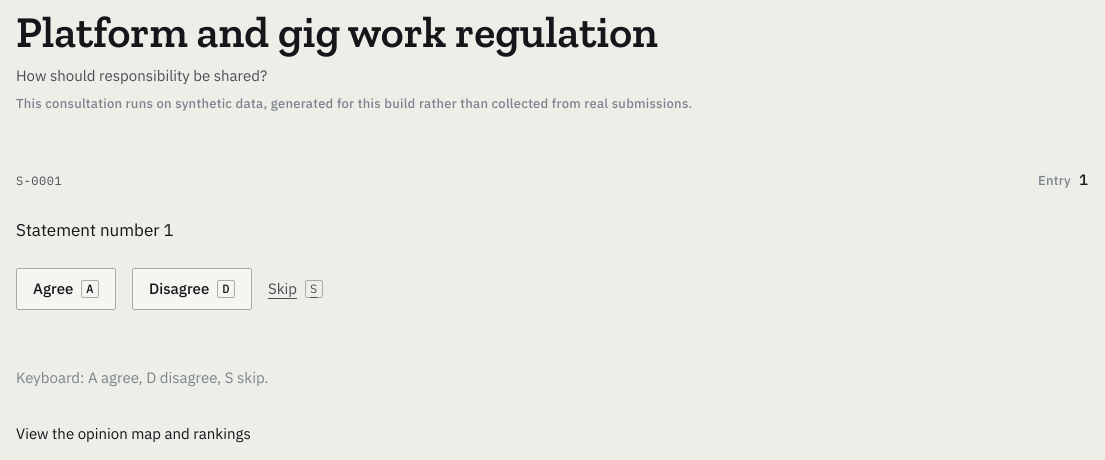
it: VotingScreen › casts an agree vote by clicking and advances to the next statement
This screenshot has width=1105, height=460.
Check: the text "Statement number 1" is shown, box top-left (16, 219), bottom-right (174, 241)
Click the button "Agree A".
click(66, 289)  # box top-left (16, 268), bottom-right (116, 310)
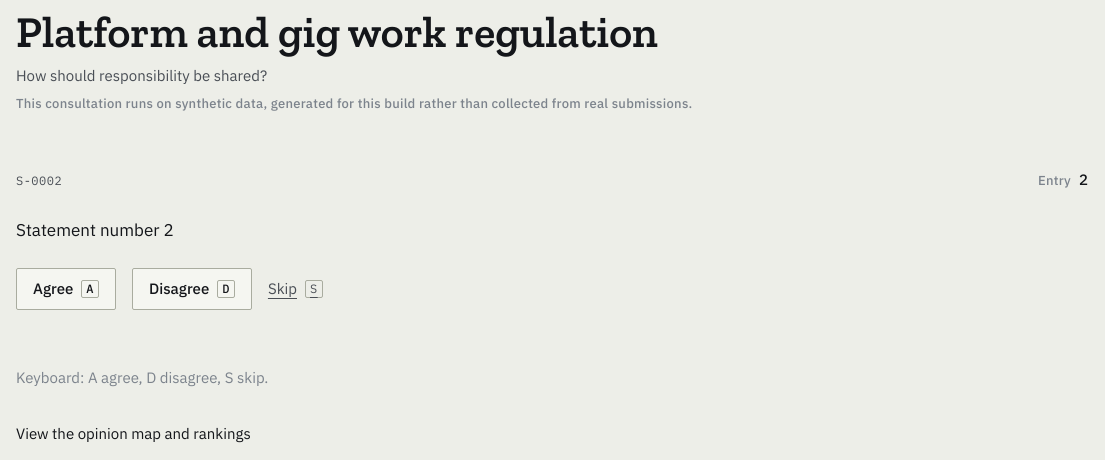
Check: the text "Statement number 2" is shown, box top-left (16, 219), bottom-right (174, 241)
